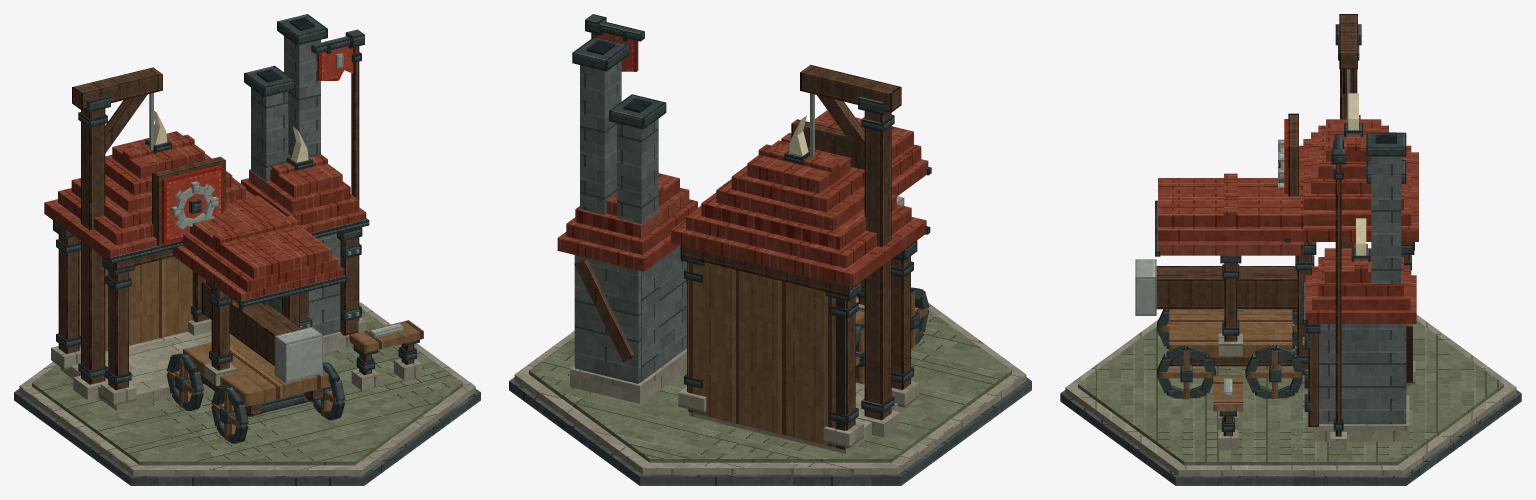
Rendered from orc_grand_arsenal_hex_v1.glb.
3 renders of one model, left to right at view 1: azimuth 30°, elevation 25°; view 2: azimuth 150°, elevation 25°; view 3: azimuth 270°, elevation 25°, orthographic. The views are drawn at different scales.
Visible parts, largest first — view 1: Orc_Grand_Arsenal_Hex_V1_Foundation, Orc_Grand_Arsenal_Hex_V1_Focus, Orc_Grand_Arsenal_Hex_V1_Roofs, Orc_Grand_Arsenal_Hex_V1_Hall, Orc_Grand_Arsenal_Hex_V1_Faction, Orc_Grand_Arsenal_Hex_V1_Details, Orc_Grand_Arsenal_Hex_V1_Training; view 2: Orc_Grand_Arsenal_Hex_V1_Hall, Orc_Grand_Arsenal_Hex_V1_Foundation, Orc_Grand_Arsenal_Hex_V1_Roofs, Orc_Grand_Arsenal_Hex_V1_Focus, Orc_Grand_Arsenal_Hex_V1_Details, Orc_Grand_Arsenal_Hex_V1_Faction; view 3: Orc_Grand_Arsenal_Hex_V1_Foundation, Orc_Grand_Arsenal_Hex_V1_Roofs, Orc_Grand_Arsenal_Hex_V1_Focus, Orc_Grand_Arsenal_Hex_V1_Hall, Orc_Grand_Arsenal_Hex_V1_Faction, Orc_Grand_Arsenal_Hex_V1_Details, Orc_Grand_Arsenal_Hex_V1_Training.
Boxes of the visible parts, left/top/right/bottom form: Orc_Grand_Arsenal_Hex_V1_Foundation: left=14, top=302, right=480, bottom=485; Orc_Grand_Arsenal_Hex_V1_Focus: left=72, top=14, right=345, bottom=443; Orc_Grand_Arsenal_Hex_V1_Roofs: left=44, top=110, right=369, bottom=307; Orc_Grand_Arsenal_Hex_V1_Hall: left=51, top=220, right=353, bottom=410; Orc_Grand_Arsenal_Hex_V1_Faction: left=152, top=29, right=366, bottom=332; Orc_Grand_Arsenal_Hex_V1_Details: left=56, top=17, right=416, bottom=384; Orc_Grand_Arsenal_Hex_V1_Training: left=349, top=320, right=423, bottom=390; Orc_Grand_Arsenal_Hex_V1_Hall: left=570, top=240, right=919, bottom=453; Orc_Grand_Arsenal_Hex_V1_Foundation: left=509, top=303, right=1031, bottom=485; Orc_Grand_Arsenal_Hex_V1_Roofs: left=557, top=110, right=931, bottom=286; Orc_Grand_Arsenal_Hex_V1_Focus: left=572, top=36, right=929, bottom=437; Orc_Grand_Arsenal_Hex_V1_Details: left=574, top=40, right=913, bottom=424; Orc_Grand_Arsenal_Hex_V1_Faction: left=585, top=14, right=864, bottom=169; Orc_Grand_Arsenal_Hex_V1_Foundation: left=1060, top=314, right=1521, bottom=485; Orc_Grand_Arsenal_Hex_V1_Roofs: left=1155, top=93, right=1418, bottom=324; Orc_Grand_Arsenal_Hex_V1_Focus: left=1135, top=14, right=1406, bottom=398; Orc_Grand_Arsenal_Hex_V1_Hall: left=1218, top=242, right=1415, bottom=441; Orc_Grand_Arsenal_Hex_V1_Faction: left=1278, top=113, right=1346, bottom=451; Orc_Grand_Arsenal_Hex_V1_Details: left=1221, top=45, right=1412, bottom=431; Orc_Grand_Arsenal_Hex_V1_Training: left=1213, top=375, right=1243, bottom=450.
Size of the model in its own units: 1.59 by 1.41 by 1.84.
Materials: 1 (1 with a texture image).
